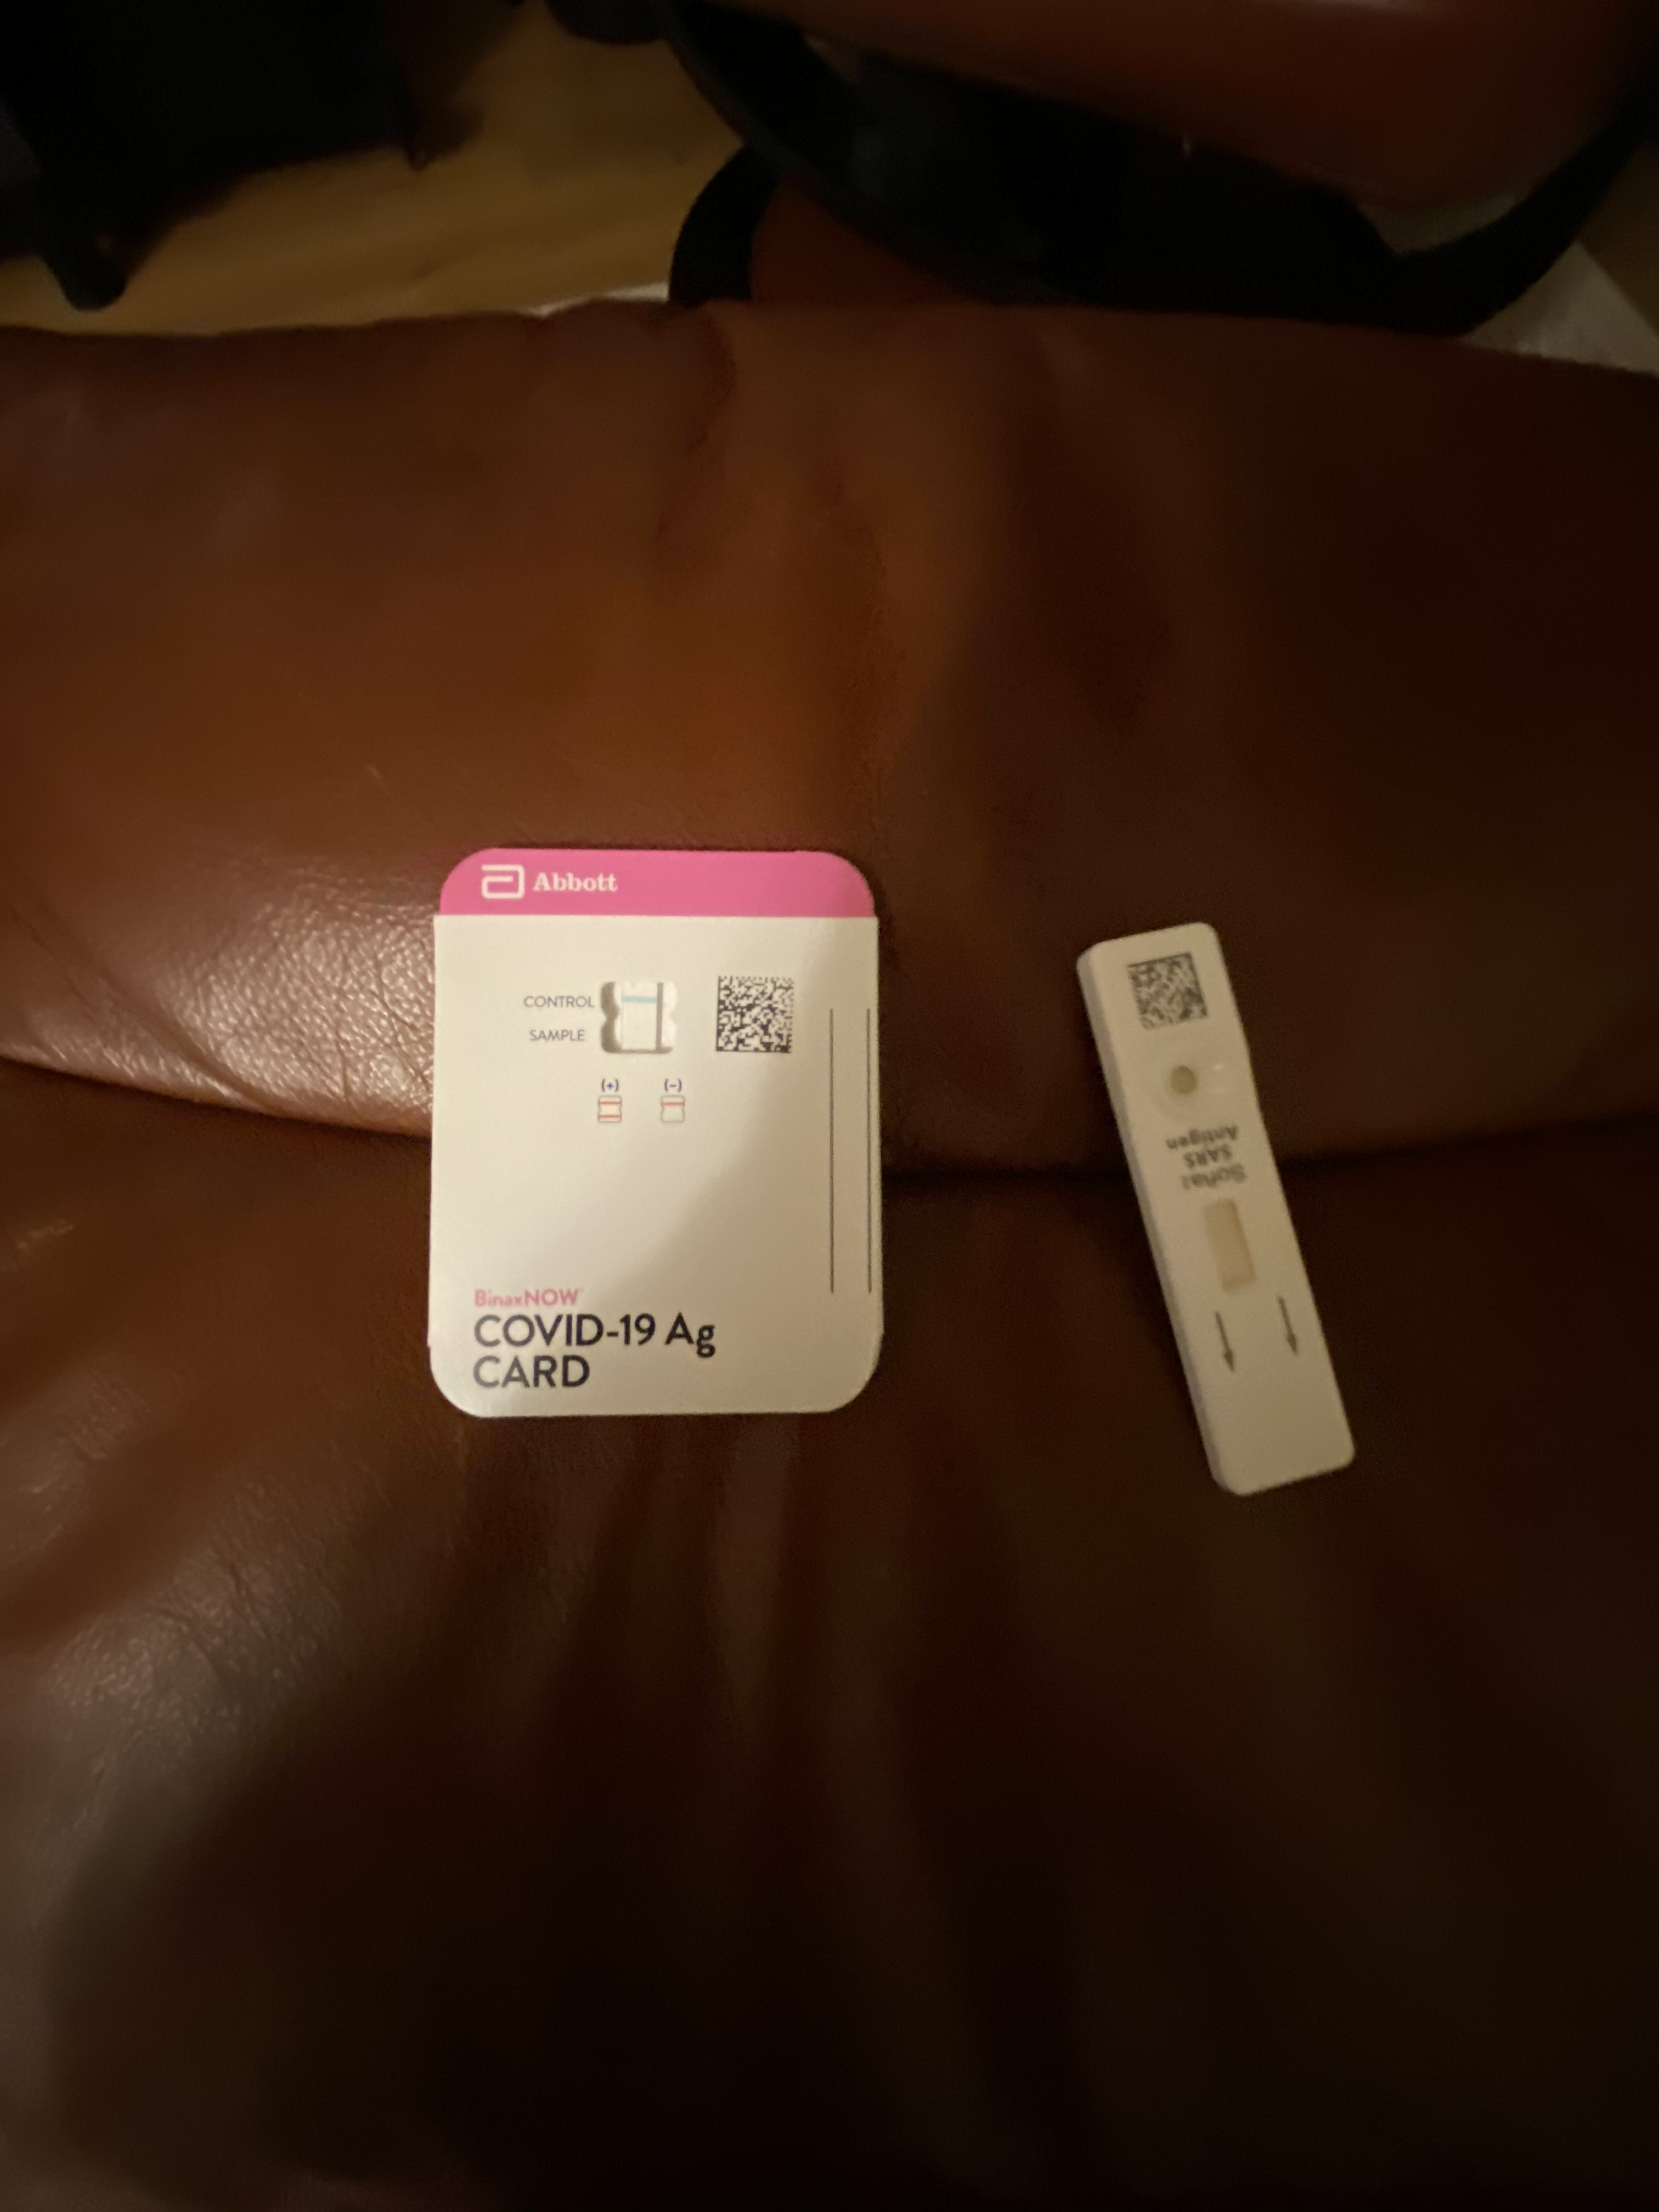binax: (422, 836, 894, 1425)
quidel: (1072, 911, 1377, 1510)
